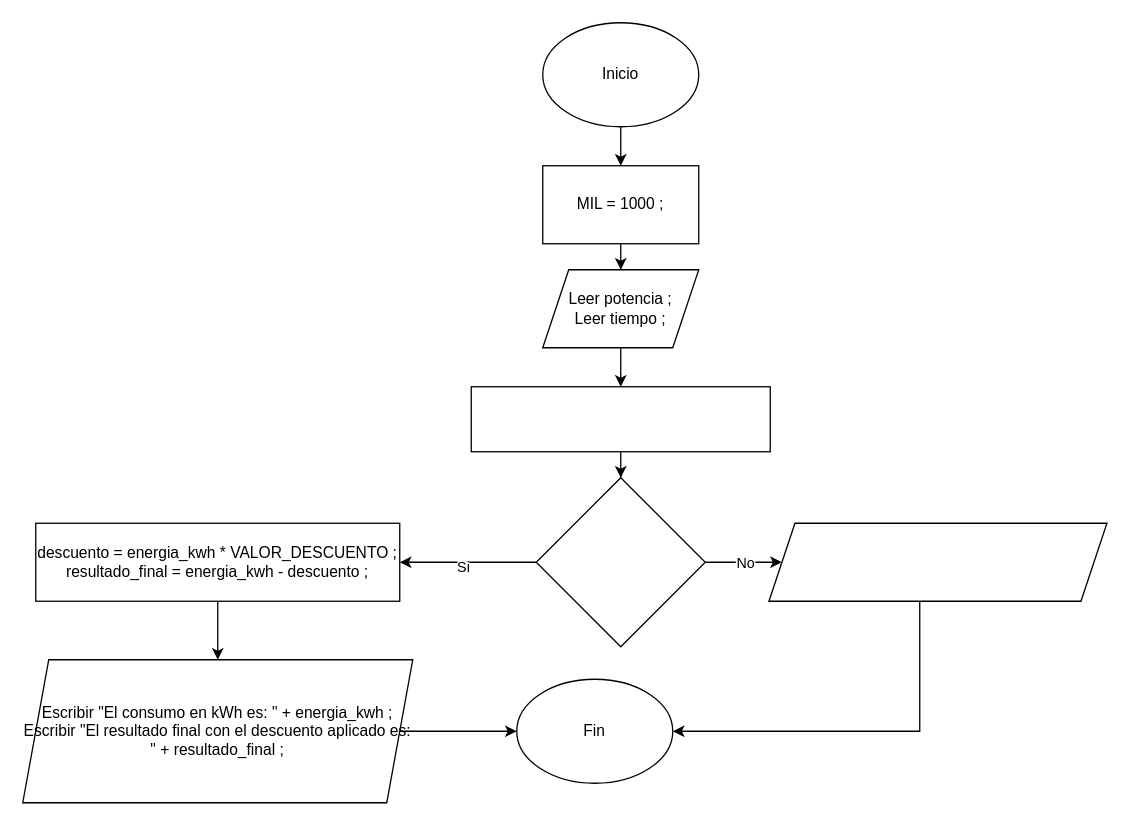
This 1130x826 diagram has some shape labels left out. The centre of each missing label's shape, as x and y in pixels:
energia_kwh = (potencia * tiempo) / MIL ;: (x=620, y=418)
Escribir "Error: El consumo de energia debe ser mayor a cero.": (x=937, y=561)
¿energia_kwh > 0?: (x=620, y=561)
